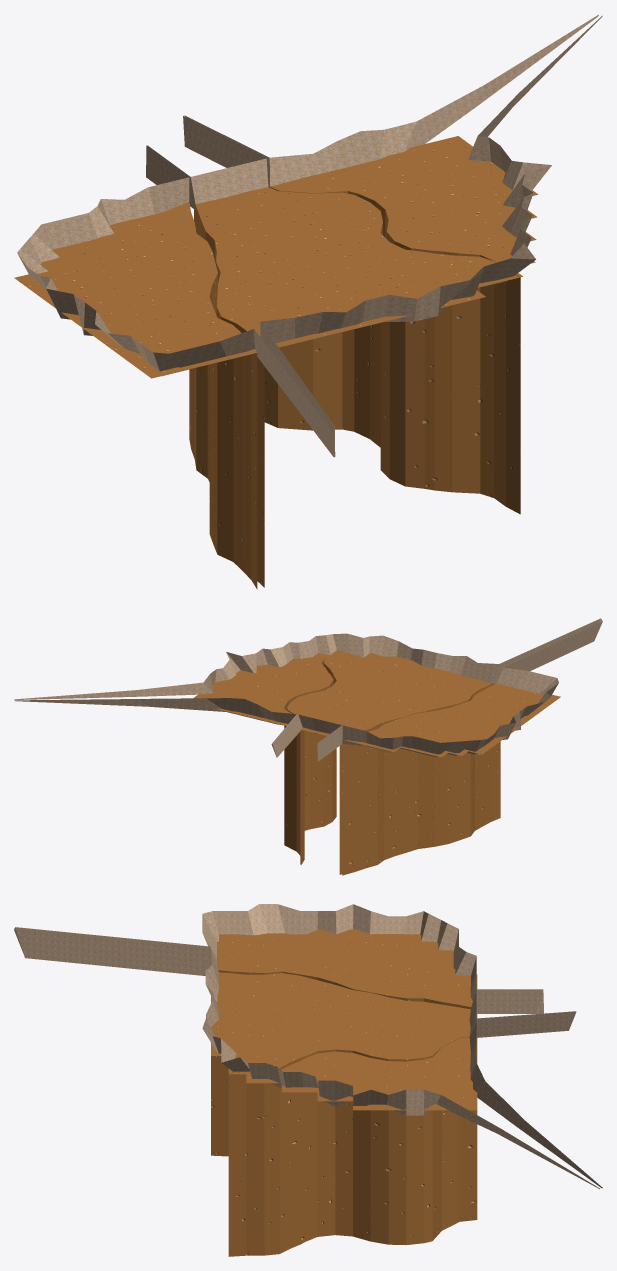
File: World_Frame_02_240321.fbx
The picture shows the model from 3 angles, top to bottom: view 1: azimuth 30°, elevation 25°; view 2: azimuth 150°, elevation 25°; view 3: azimuth 270°, elevation 25°; orthographic projection. The views are drawn at different scales.
Visible parts, largest first — view 1: Ground-Area2, Ground-Cliffs, Ground-Area1, Ground-Area3; view 2: Ground-Area1, Ground-Cliffs, Ground-Area2, Ground-Area3; view 3: Ground-Area3, Ground-Cliffs, Ground-Area2, Ground-Area1.
Boxes of the visible parts, bbox=[...] form: Ground-Area2: bbox=[194, 187, 520, 587]; Ground-Cliffs: bbox=[17, 14, 602, 457]; Ground-Area1: bbox=[14, 202, 257, 589]; Ground-Area3: bbox=[268, 136, 537, 513]; Ground-Area1: bbox=[342, 684, 560, 875]; Ground-Cliffs: bbox=[14, 618, 602, 761]; Ground-Area2: bbox=[287, 650, 493, 874]; Ground-Area3: bbox=[193, 652, 333, 864]; Ground-Area3: bbox=[228, 1037, 477, 1256]; Ground-Cliffs: bbox=[14, 904, 602, 1188]; Ground-Area2: bbox=[211, 972, 477, 1156]; Ground-Area1: bbox=[217, 929, 477, 1009].
Bounding box in the file's own units: 48091 × 17175 × 44206.
